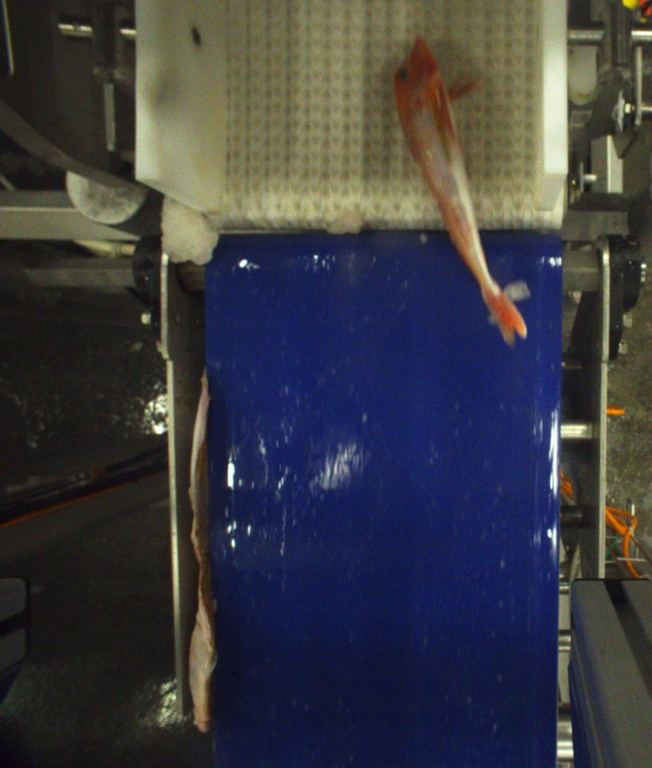GUU: (395, 34, 529, 346)
